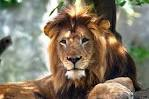lion: (42, 6, 130, 98)
